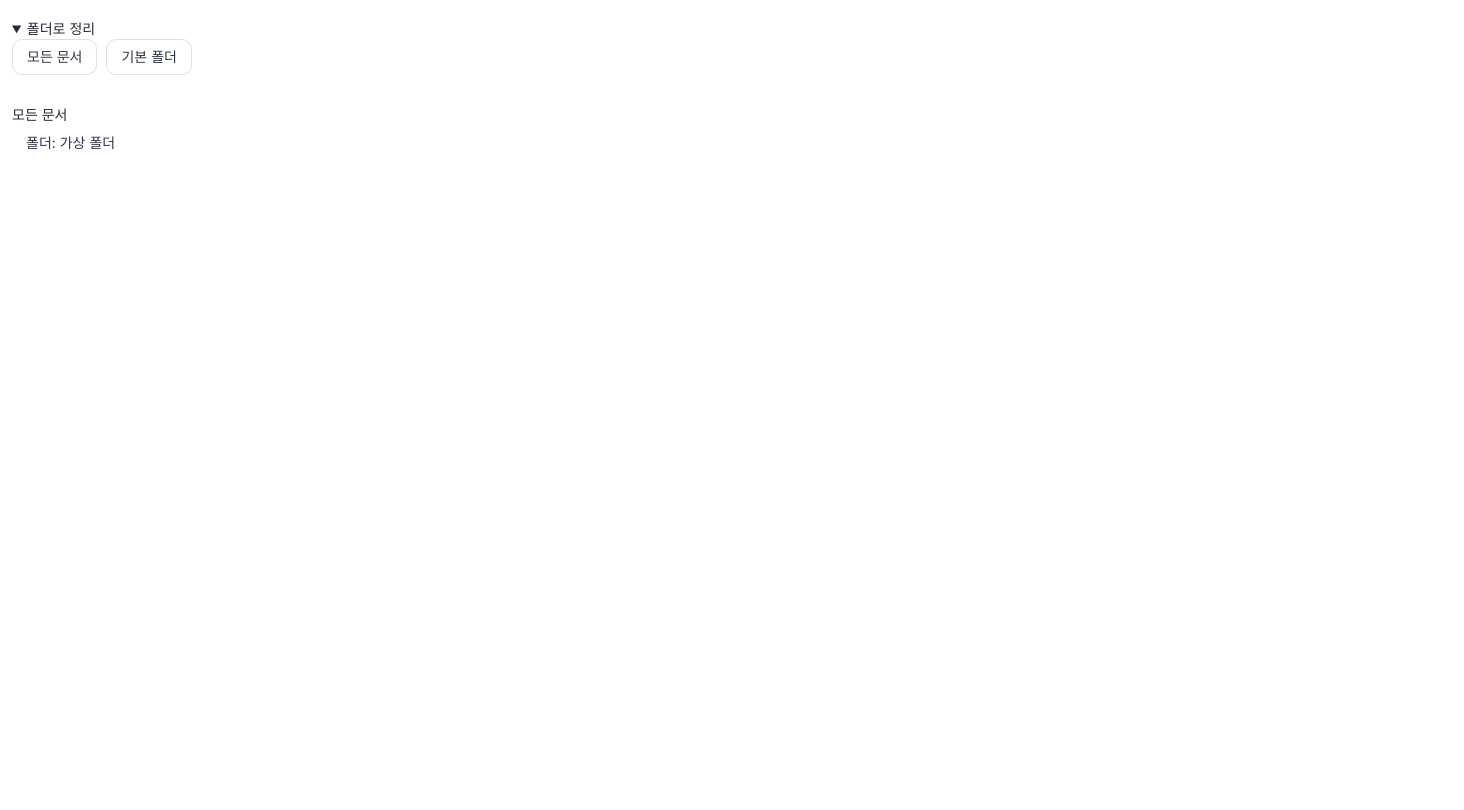
폴더 이름과 위치를 기대 revision으로 변경하고 새 경로를 표시한다
The width and height of the screenshot is (1464, 810).
Click the button "폴더: 가상 폴더" at (71, 143), box x1=12 y1=125 x2=129 y2=161
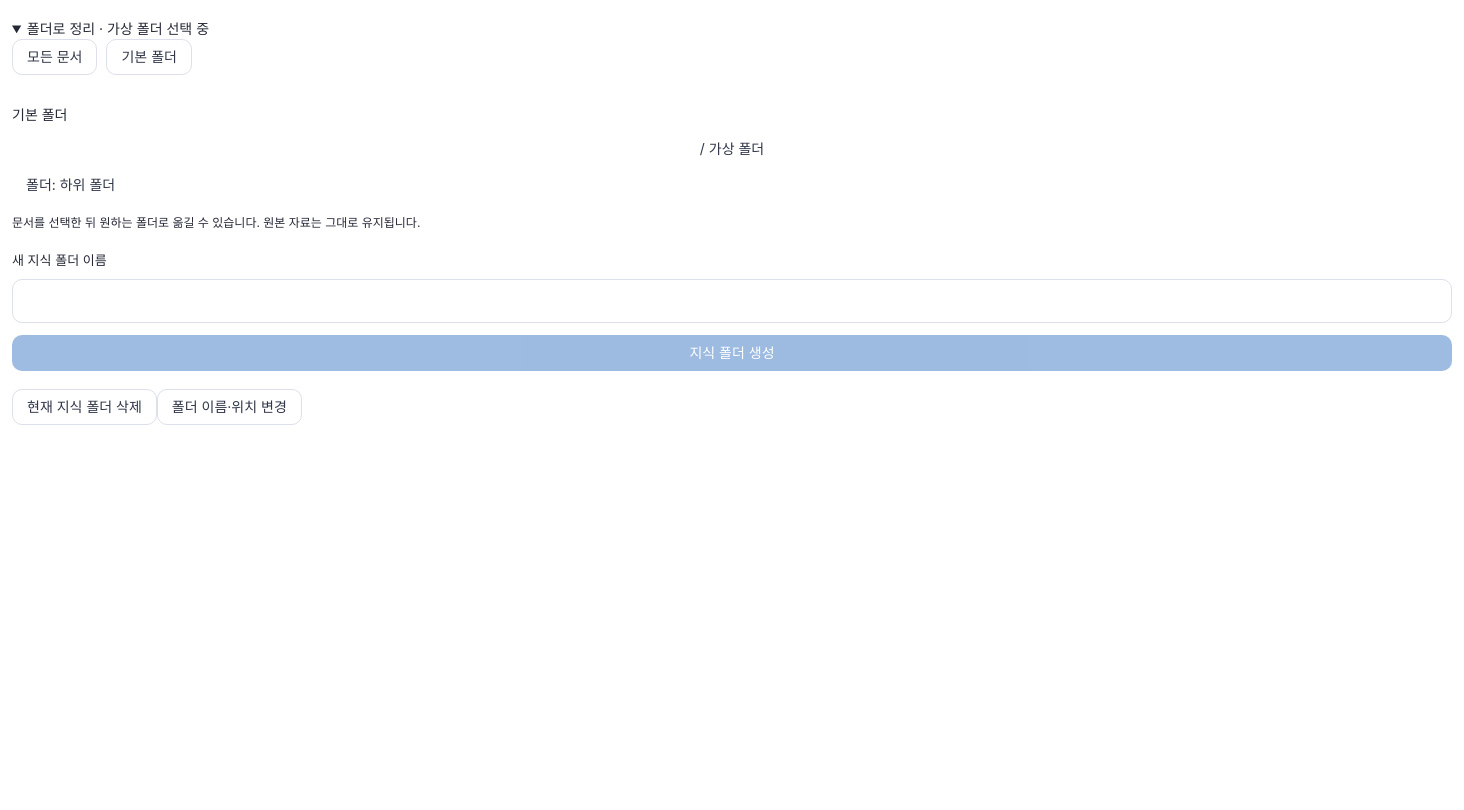
Click the button "폴더: 하위 폴더" at (71, 185), box x1=12 y1=167 x2=129 y2=203
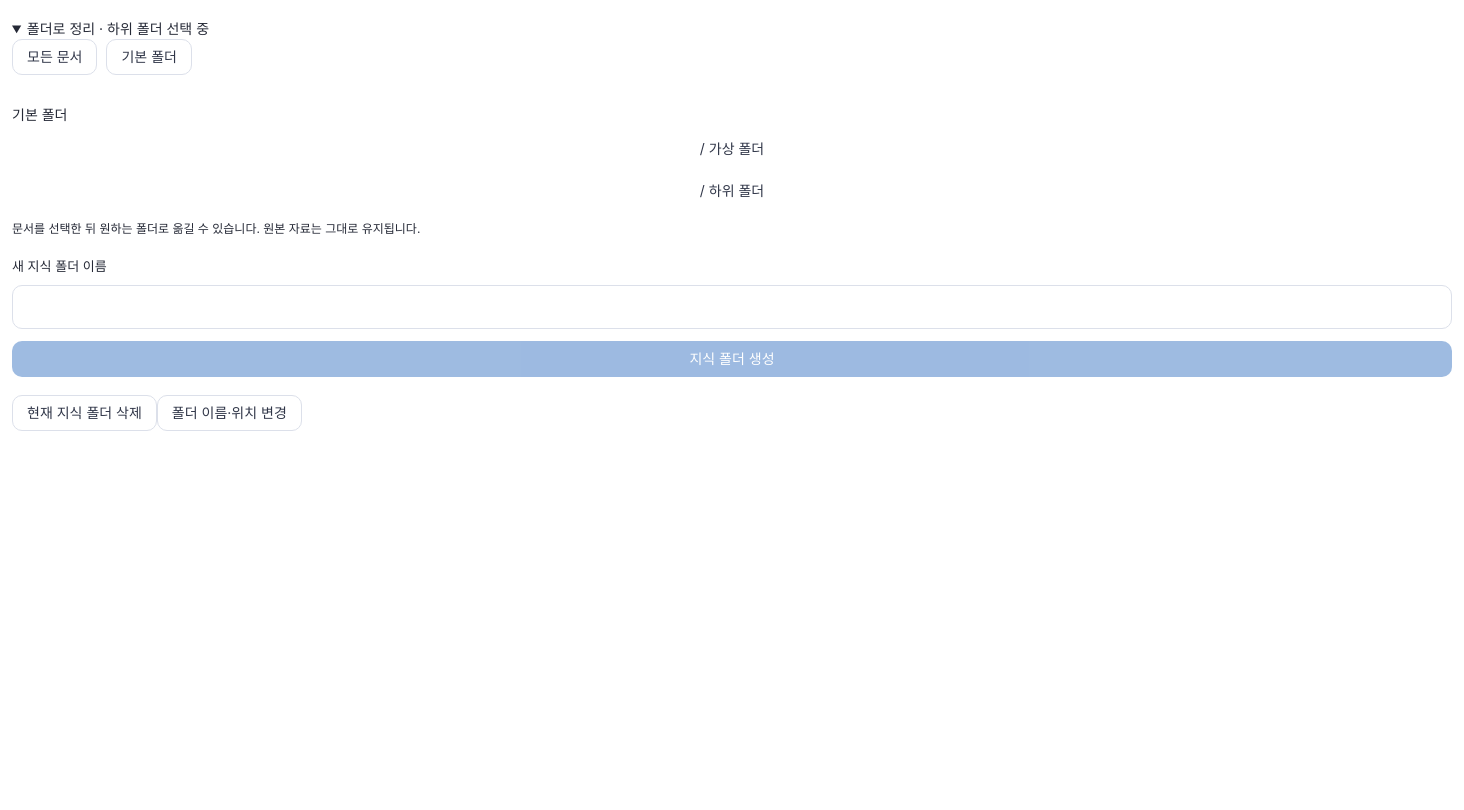
Click the button "폴더 이름·위치 변경" at (229, 413), box x1=157 y1=395 x2=302 y2=431
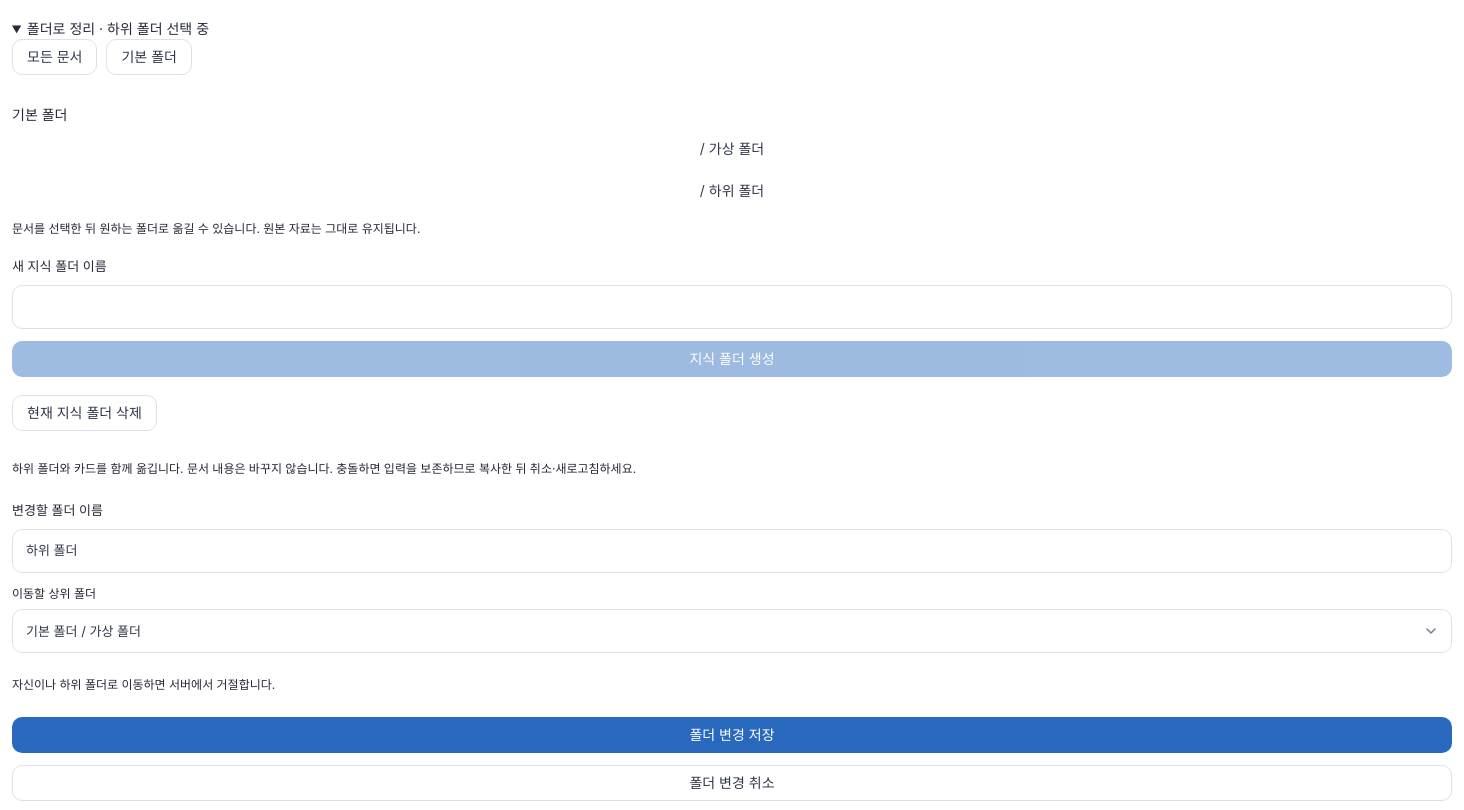
Replace the text in the field labelled "변경할 폴더 이름" with "변경됨" at (732, 551), box x1=12 y1=529 x2=1452 y2=573
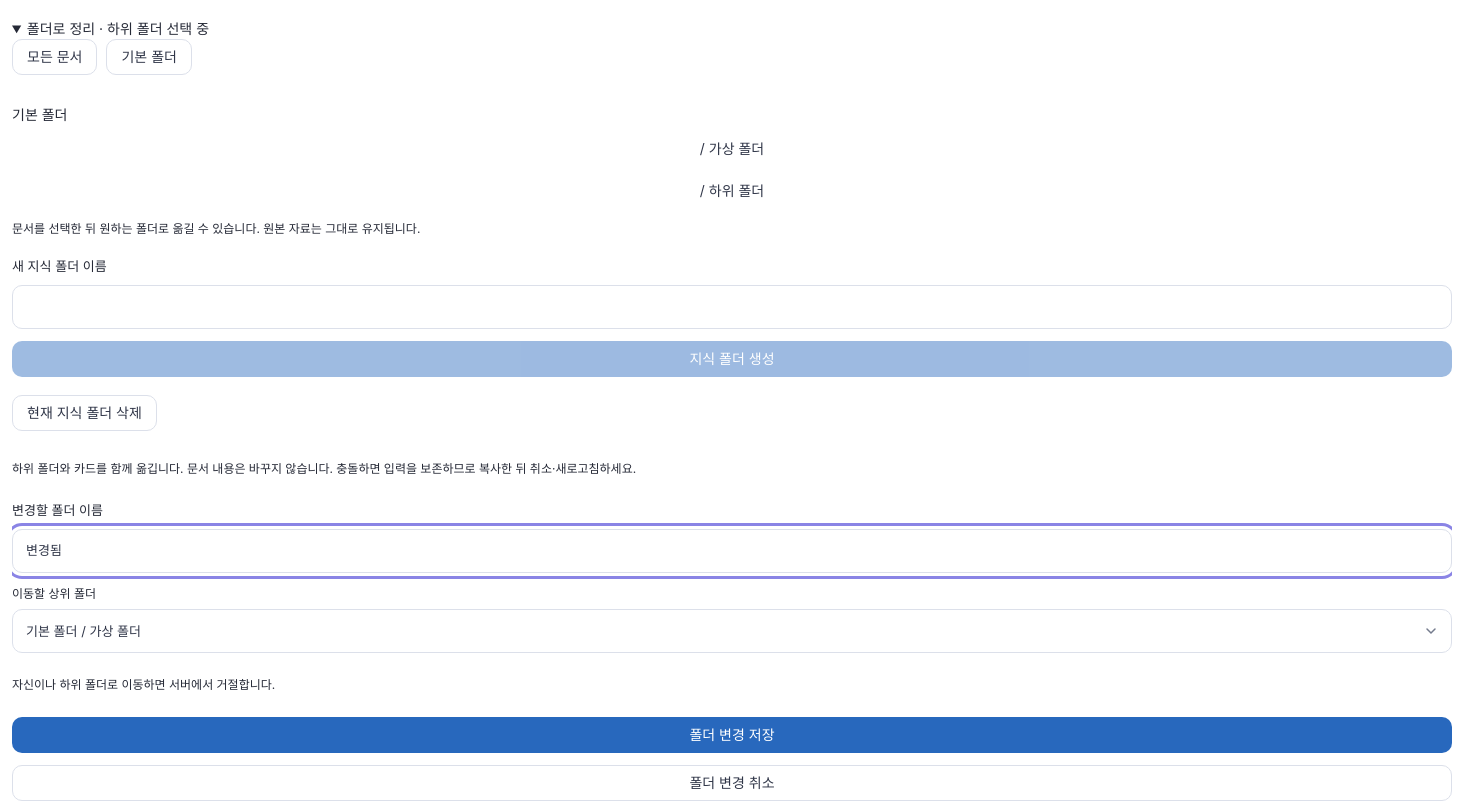
Select "기본 폴더" in the dropdown labelled "이동할 상위 폴더" at (732, 631), box x1=12 y1=609 x2=1452 y2=653
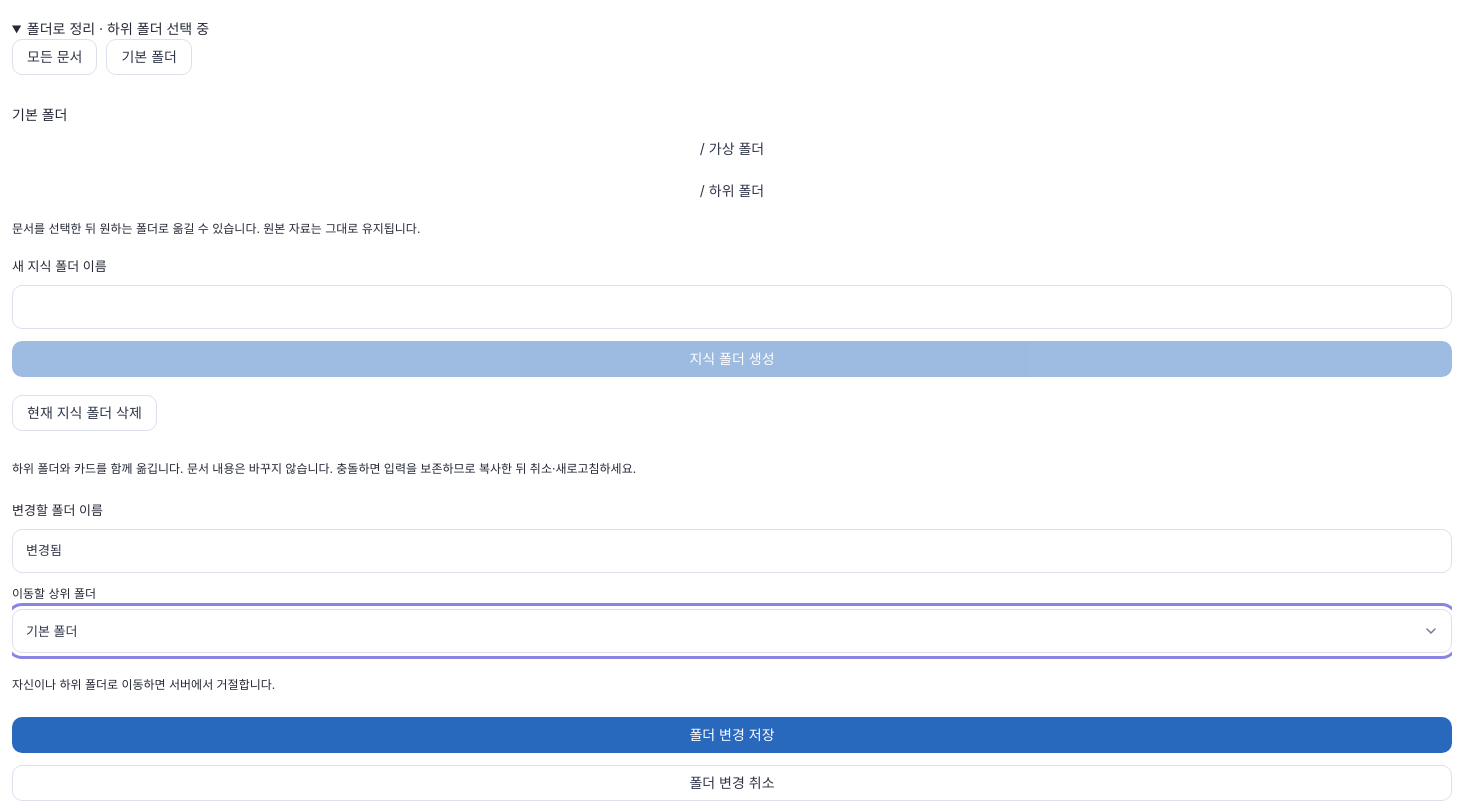
Click the button "폴더 변경 저장" at (732, 735), box x1=12 y1=717 x2=1452 y2=753
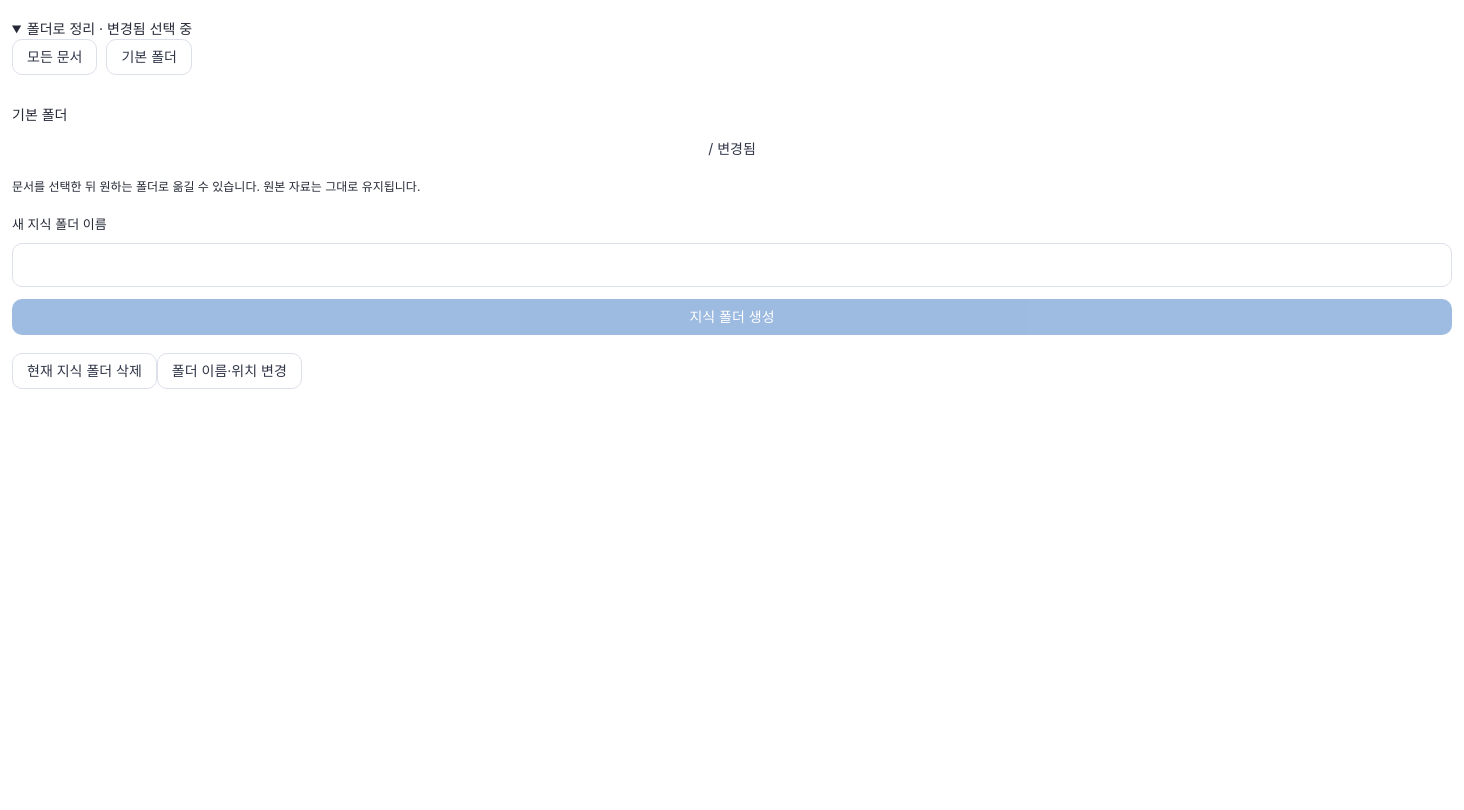
Check: the navigation bar named "지식 폴더 경로" reads "기본 폴더 / 변경됨", box x1=12 y1=104 x2=1452 y2=167
Check: the label labelled "변경할 폴더 이름" is gone
